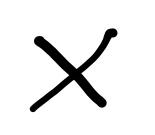mult: (29, 29, 117, 112)
